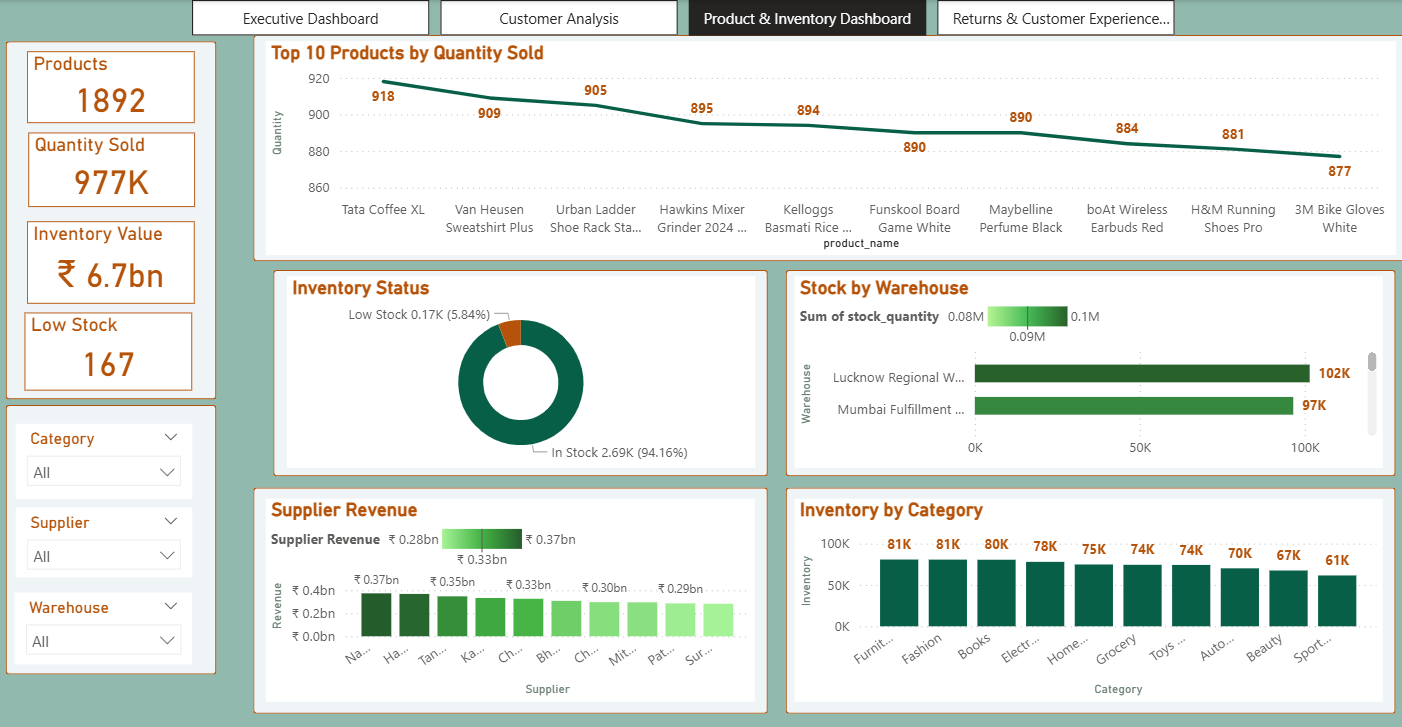

The dashboard page shown, as its layout file describes it:
{"tool":"powerbi","page":{"name":"Product & Inventory Dashboard","canvas":[1280,720],"ordinal":2},"visuals":[{"type":"shape","box":[8,365,190,243],"z":0},{"type":"shape","box":[8,37,190,323],"z":1000},{"type":"shape","box":[711,440,550,204],"z":2000},{"type":"shape","box":[231,440,464,204],"z":3000},{"type":"shape","box":[711,243,550,186],"z":4000},{"type":"shape","box":[249,243,446,186],"z":5000},{"type":"shape","box":[231,32,1041,204],"z":6000},{"type":"lineChart","title":"Top 10 Products by Quantity Sold","fields":{"Category":["products.product_name"],"Y":["order_items.Total Quantity Sold"]},"box":[242,37,1019,193],"z":7000},{"type":"donutChart","title":"Inventory Status","fields":{"Category":["inventory.inventory_status"],"Y":["CountNonNull(inventory.inventory_id)"]},"box":[261,249,422,173],"z":8000},{"type":"clusteredBarChart","title":"Stock by Warehouse","fields":{"Category":["warehouses.warehouse_name"],"Y":["Sum(inventory.stock_quantity)"]},"box":[719,249,530,173],"z":9000},{"type":"columnChart","title":"Inventory by Category","fields":{"Category":["categories.category_name"],"Y":["inventory.Inventory Value"]},"box":[719,450,530,183],"z":10000},{"type":"slicer","fields":{"Values":["categories.category_name"]},"box":[17,382,159,68],"z":11000},{"type":"slicer","fields":{"Values":["suppliers.supplier_name"]},"box":[17,458,159,63],"z":12000},{"type":"slicer","fields":{"Values":["warehouses.warehouse_name"]},"box":[16,534,160,65],"z":13000},{"type":"card","title":"Products","fields":{"Values":["products.Total Products"]},"box":[27,46,151,65],"z":14000},{"type":"card","title":"Quantity Sold","fields":{"Values":["order_items.Total Quantity Sold"]},"box":[28,120,150,67],"z":15000},{"type":"card","title":"Inventory Value","fields":{"Values":["inventory.Inventory Value"]},"box":[27,199,151,74],"z":16000},{"type":"card","title":"Low Stock","fields":{"Values":["inventory.Low Stock Products"]},"box":[25,282,151,70],"z":17000},{"type":"columnChart","title":"Supplier Revenue","fields":{"Category":["suppliers.supplier_name"],"Y":["suppliers.Supplier Revenue"]},"box":[242,450,441,183],"z":18000},{"type":"pageNavigator","box":[176,0,889,32],"z":19000}]}

Visuals, with their boxes on the page's 1280x720 design canvas (x1, y1, x2, y2). These are canvas units, not pixel positions in the 1402x727 screenshot, which may show the page scaled, cropped or inside an application window:
shape: left=8, top=365, right=198, bottom=608
shape: left=8, top=37, right=198, bottom=360
shape: left=711, top=440, right=1261, bottom=644
shape: left=231, top=440, right=695, bottom=644
shape: left=711, top=243, right=1261, bottom=429
shape: left=249, top=243, right=695, bottom=429
shape: left=231, top=32, right=1272, bottom=236
"Top 10 Products by Quantity Sold" lineChart: left=242, top=37, right=1261, bottom=230
"Inventory Status" donutChart: left=261, top=249, right=683, bottom=422
"Stock by Warehouse" clusteredBarChart: left=719, top=249, right=1249, bottom=422
"Inventory by Category" columnChart: left=719, top=450, right=1249, bottom=633
slicer - categories.category_name: left=17, top=382, right=176, bottom=450
slicer - suppliers.supplier_name: left=17, top=458, right=176, bottom=521
slicer - warehouses.warehouse_name: left=16, top=534, right=176, bottom=599
"Products" card: left=27, top=46, right=178, bottom=111
"Quantity Sold" card: left=28, top=120, right=178, bottom=187
"Inventory Value" card: left=27, top=199, right=178, bottom=273
"Low Stock" card: left=25, top=282, right=176, bottom=352
"Supplier Revenue" columnChart: left=242, top=450, right=683, bottom=633
pageNavigator: left=176, top=0, right=1065, bottom=32
